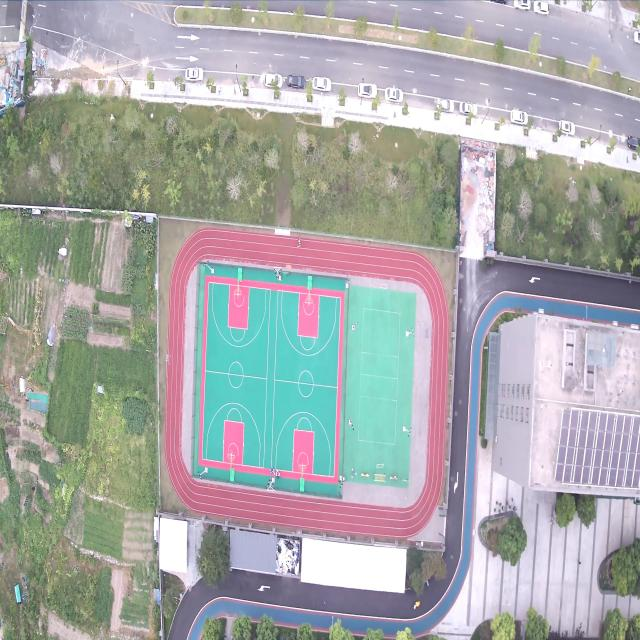UAV: (164, 353, 171, 364)
